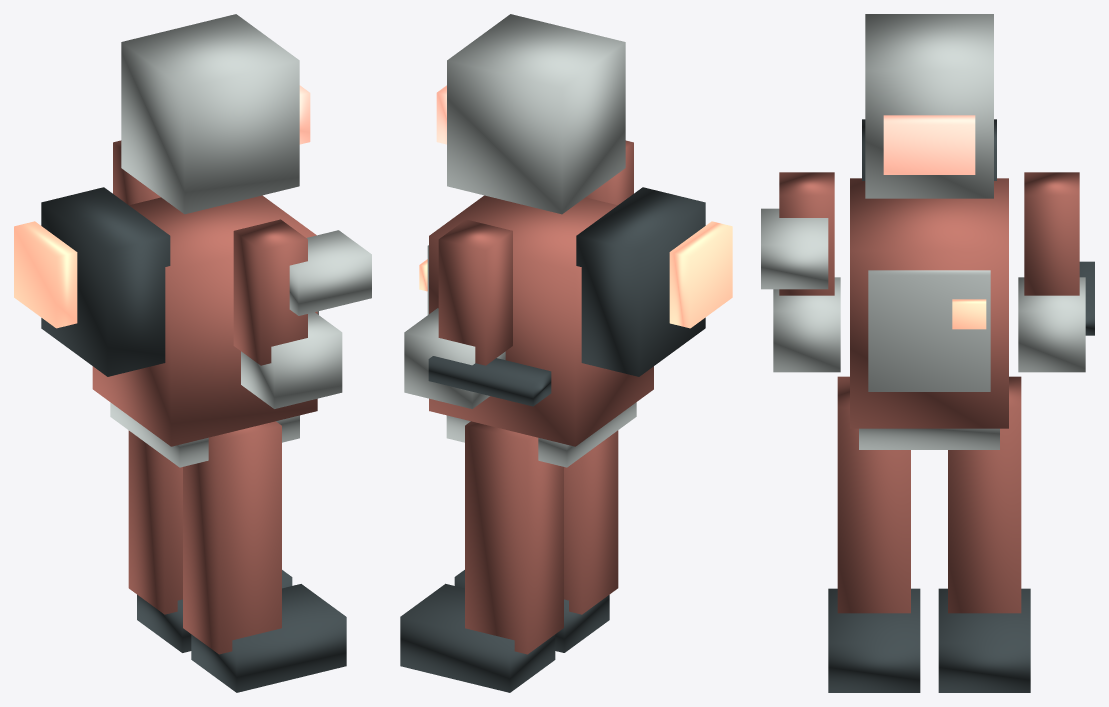
File: enemy-assault-lod1.glb
3 views of the same model, side by side, from view 1: azimuth 30°, elevation 25°; view 2: azimuth 150°, elevation 25°; view 3: azimuth 270°, elevation 25° (orthographic).
Visible parts, largest first — view 1: helmet-shell, torso-suit, leg-left-shell, backpack-core, boot-left, leg-right-shell, arm-left-upper, gauntlet-left, backpack-glow, assault-ram-plate, hip-armor, boot-right (+2 smaller); view 2: helmet-shell, torso-suit, leg-right-shell, backpack-core, arm-right-upper, boot-right, leg-left-shell, backpack-glow, assault-breach-blade, gauntlet-right, hip-armor, boot-left (+2 smaller); view 3: torso-suit, helmet-shell, chest-plate, leg-left-shell, leg-right-shell, boot-left, boot-right, arm-right-upper, helmet-visor, gauntlet-right, gauntlet-left, assault-ram-plate (+4 smaller).
Part boxes in pixels (bbox=[...]): helmet-shell: bbox=[121, 14, 299, 214]; torso-suit: bbox=[92, 195, 317, 446]; leg-left-shell: bbox=[183, 421, 281, 654]; backpack-core: bbox=[41, 187, 170, 376]; boot-left: bbox=[191, 584, 346, 692]; leg-right-shell: bbox=[128, 430, 182, 614]; arm-left-upper: bbox=[233, 219, 307, 365]; gauntlet-left: bbox=[241, 312, 342, 408]; backpack-glow: bbox=[14, 221, 77, 328]; assault-ram-plate: bbox=[289, 230, 371, 315]; hip-armor: bbox=[110, 402, 299, 467]; boot-right: bbox=[137, 570, 292, 652]; helmet-shell: bbox=[447, 14, 625, 214]; torso-suit: bbox=[429, 195, 653, 446]; leg-right-shell: bbox=[465, 421, 563, 654]; backpack-core: bbox=[576, 187, 705, 376]; arm-right-upper: bbox=[438, 219, 512, 365]; boot-right: bbox=[400, 583, 555, 692]; leg-left-shell: bbox=[564, 430, 618, 614]; backpack-glow: bbox=[669, 221, 732, 328]; assault-breach-blade: bbox=[428, 356, 551, 406]; gauntlet-right: bbox=[404, 308, 505, 408]; hip-armor: bbox=[446, 402, 636, 467]; boot-left: bbox=[454, 570, 609, 652]; torso-suit: bbox=[850, 178, 1008, 428]; helmet-shell: bbox=[865, 14, 993, 198]; chest-plate: bbox=[868, 270, 990, 391]; leg-left-shell: bbox=[837, 376, 910, 613]; leg-right-shell: bbox=[948, 376, 1021, 613]; boot-left: bbox=[828, 588, 920, 692]; boot-right: bbox=[938, 588, 1030, 692]; arm-right-upper: bbox=[1024, 172, 1079, 295]; helmet-visor: bbox=[883, 115, 975, 174]; gauntlet-right: bbox=[1018, 277, 1085, 372]; gauntlet-left: bbox=[773, 277, 840, 372]; assault-ram-plate: bbox=[761, 208, 828, 289].
Size of the model in its own units: 1.01 by 2.19 by 1.09.
